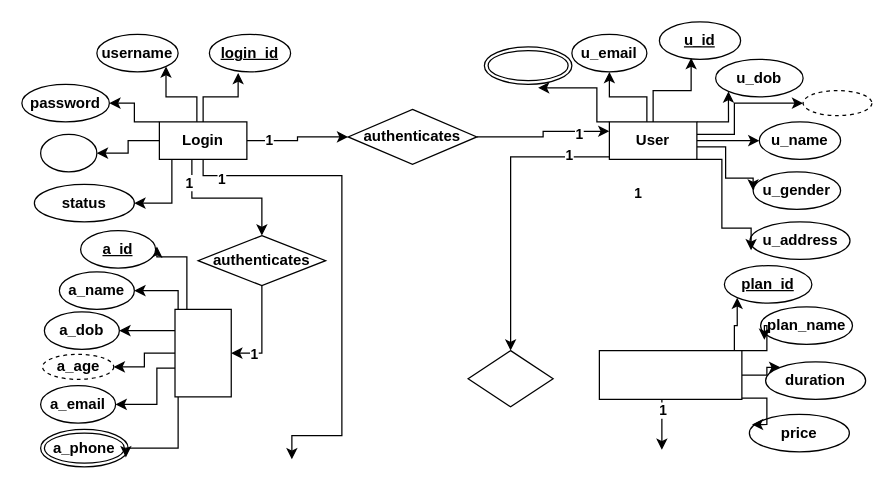
Image size: 894x491. Some labels were removed from this diagram. The centre of each missing label's shape, as x and y in pixels:
Admin: the point at 202,352
has: the point at 510,378
membership_plan: the point at 670,374
role: the point at 68,152
u_age: the point at 837,102
u_phone: the point at 527,65
